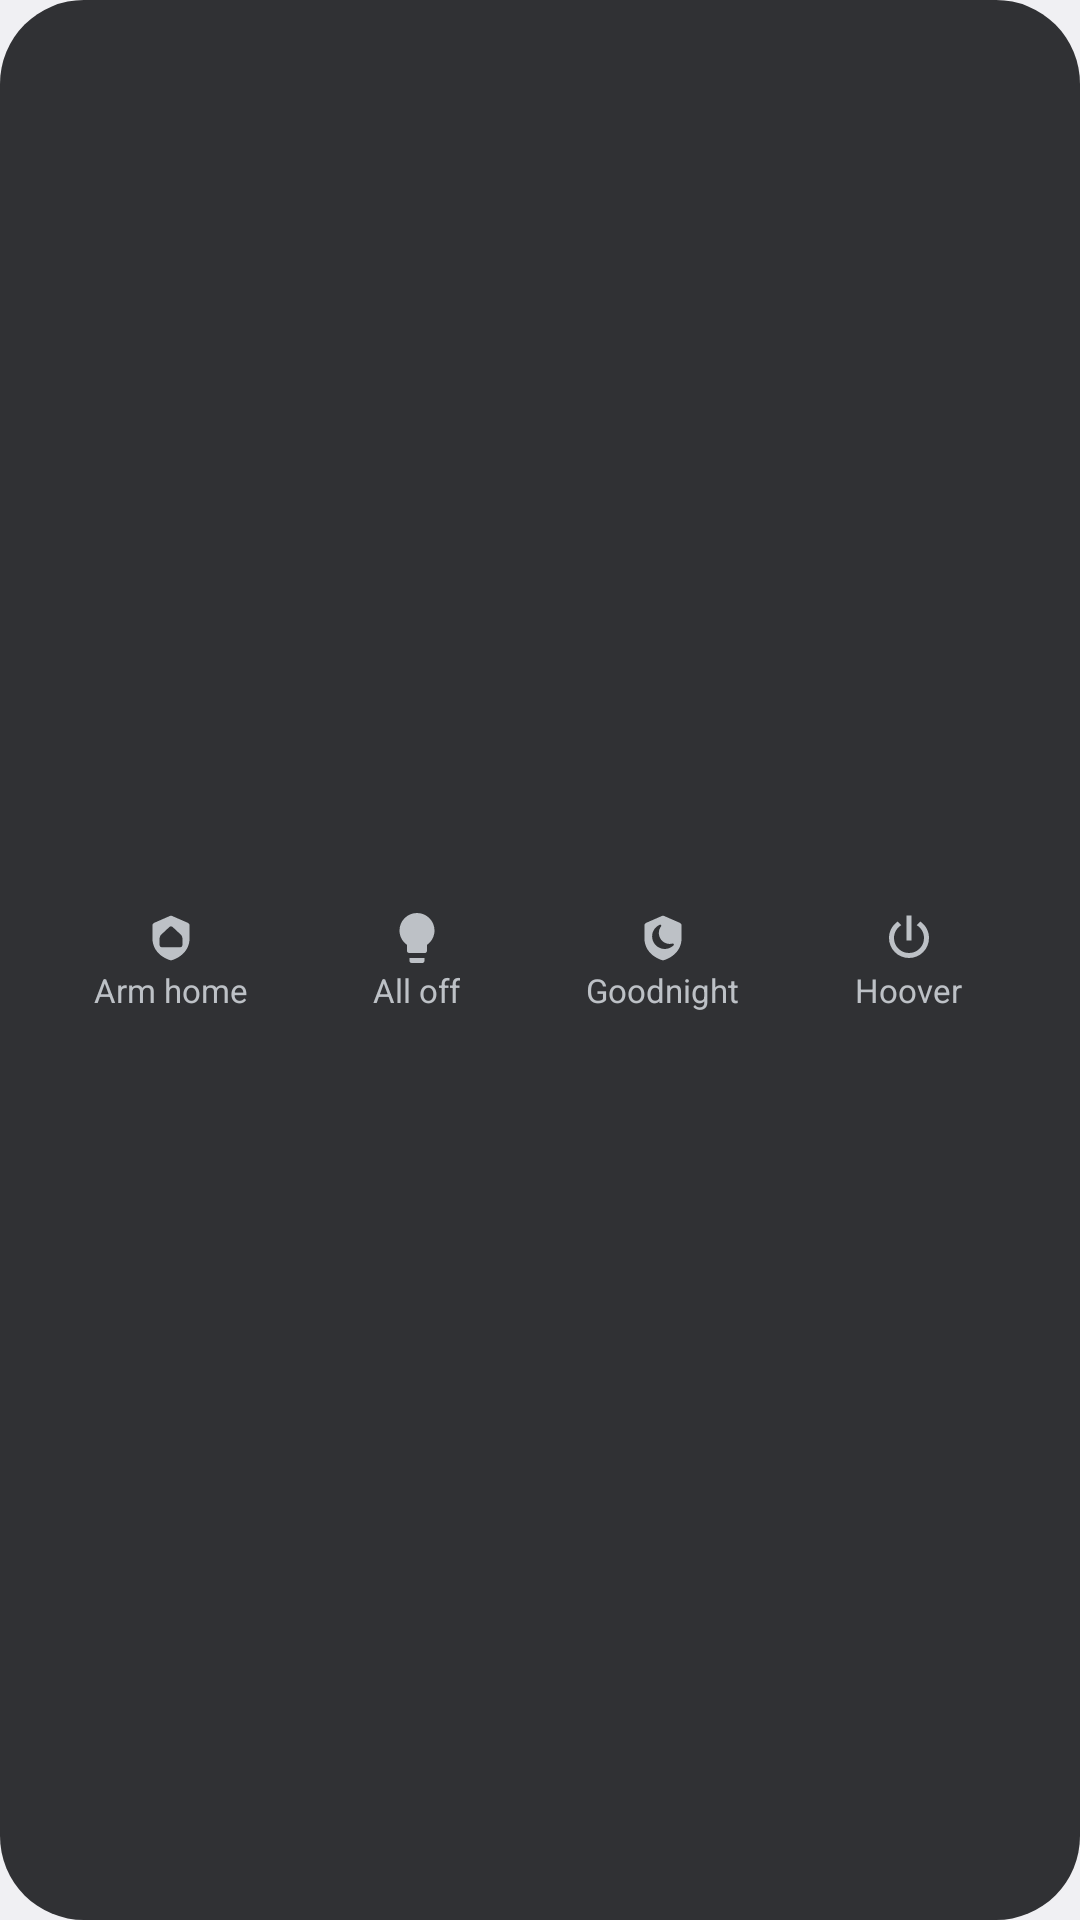

Named icons in this screenshot (1080px x 1920px) and their centers, (x,y):
lightbulb: (417,938)
power: (909,936)
shield home: (171,938)
shield moon: (663,938)
